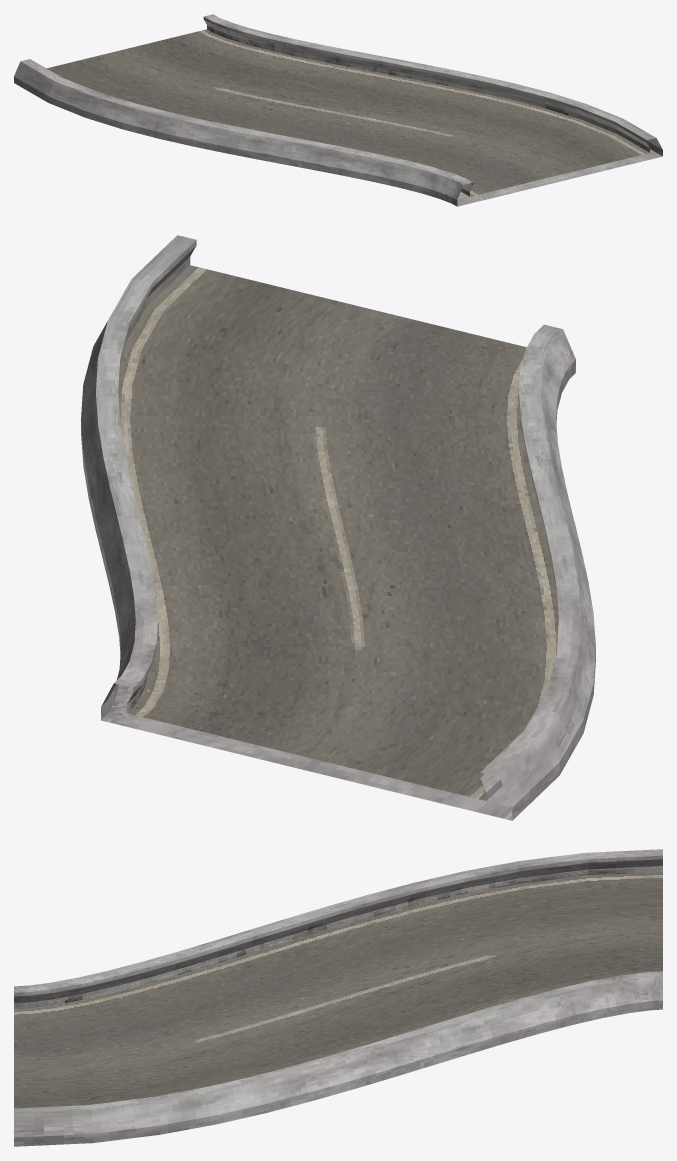
File: chicane-left1x2.glb
3 views of the same model, one above another, from view 1: azimuth 30°, elevation 25°; view 2: azimuth 150°, elevation 25°; view 3: azimuth 270°, elevation 25° (orthographic). The views are drawn at different scales.
Visible parts, largest first — view 1: road-Chicane-Flat-Flat-Even-Left1-Size2; view 2: road-Chicane-Flat-Flat-Even-Left1-Size2; view 3: road-Chicane-Flat-Flat-Even-Left1-Size2.
Boxes of the visible parts, box(x1,y1,x2,y2) form: road-Chicane-Flat-Flat-Even-Left1-Size2: box(14, 14, 662, 206); road-Chicane-Flat-Flat-Even-Left1-Size2: box(81, 235, 595, 820); road-Chicane-Flat-Flat-Even-Left1-Size2: box(14, 849, 662, 1146).
Size of the model in its own units: 2 by 0.0938 by 2.
2 materials, 2 textured.
